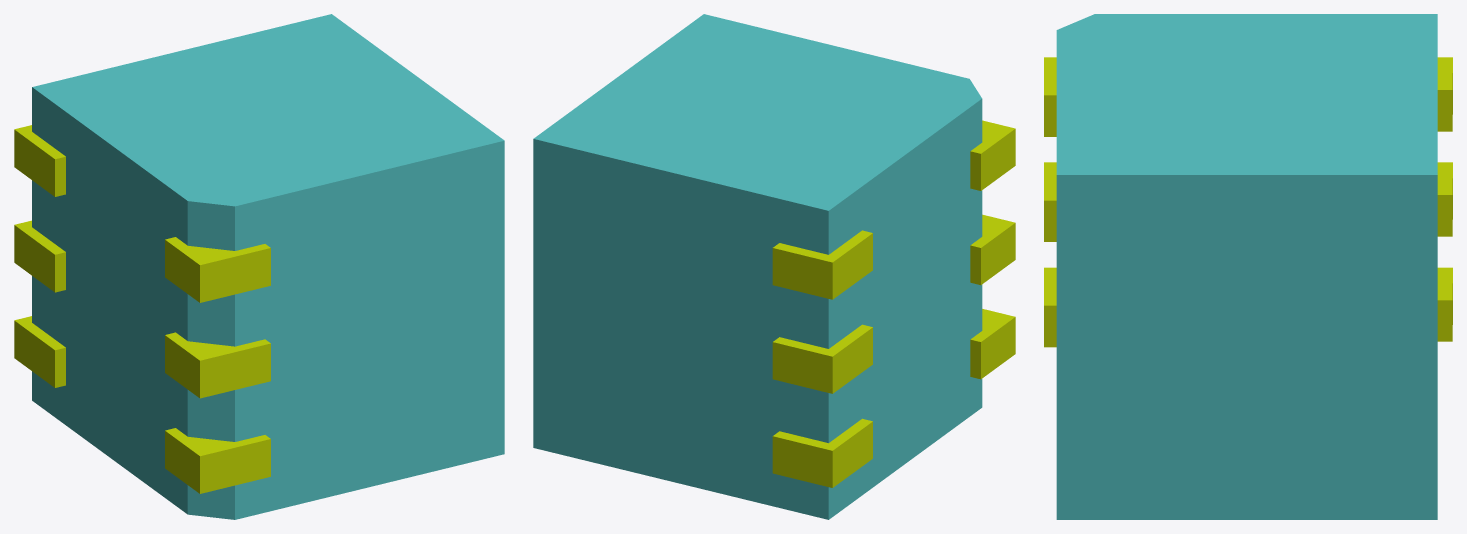
The model's file is Right Connect Blue Yellow.fbx.
3 views of the same model, side by side, from view 1: azimuth 30°, elevation 25°; view 2: azimuth 150°, elevation 25°; view 3: azimuth 270°, elevation 25° (orthographic). The views are drawn at different scales.
Visible parts, largest first — view 1: pCube9; view 2: pCube9; view 3: pCube9.
Boxes of the visible parts, x1=… form: pCube9: x1=14, y1=14, x2=504, y2=519; pCube9: x1=533, y1=14, x2=1015, y2=519; pCube9: x1=1044, y1=14, x2=1452, y2=519.
Bounding box in the file's own units: 2.07 × 2 × 2.15.
